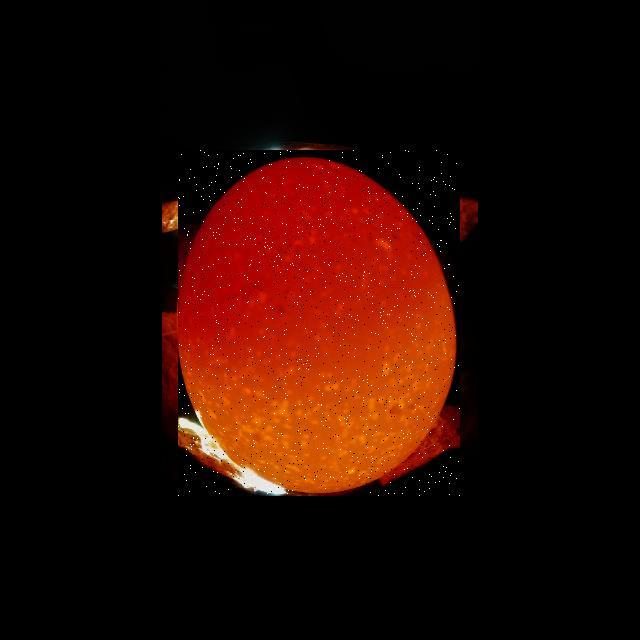Fertile: (178, 150, 460, 496)
